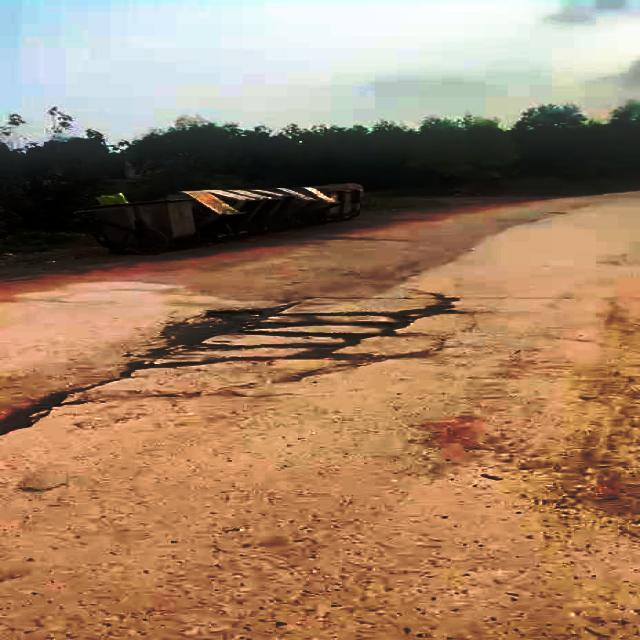pothole: (127, 297, 467, 372)
